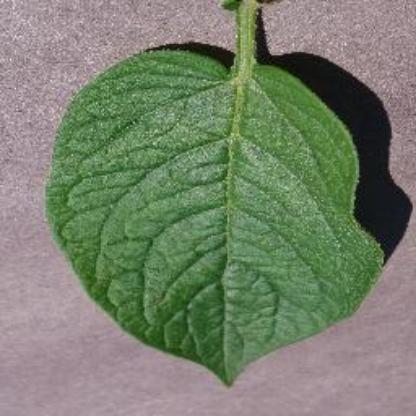Healthy-plant: (44, 34, 398, 392)
